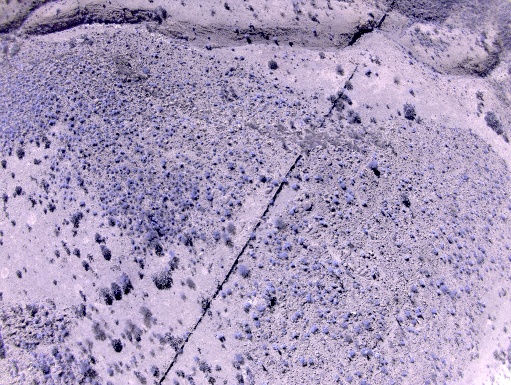agave: (283, 241, 297, 254), (258, 171, 268, 188), (304, 292, 315, 304), (225, 161, 237, 172), (204, 191, 215, 203), (241, 266, 251, 278), (218, 214, 228, 225), (287, 207, 299, 216), (270, 179, 282, 188), (280, 251, 290, 261), (291, 225, 300, 235), (248, 232, 257, 242), (338, 182, 349, 190), (133, 147, 144, 155), (291, 183, 303, 190), (315, 176, 324, 185), (161, 194, 169, 204), (111, 110, 120, 118), (333, 198, 341, 206), (142, 67, 150, 75), (121, 202, 129, 210), (346, 197, 355, 204), (411, 286, 418, 295), (235, 199, 242, 206), (162, 161, 169, 168), (211, 147, 218, 153), (157, 106, 163, 113), (192, 194, 198, 201), (137, 176, 144, 182), (338, 161, 344, 168), (150, 82, 156, 89), (125, 168, 132, 174), (164, 171, 170, 178), (228, 148, 233, 156), (80, 118, 86, 124), (237, 182, 242, 189), (168, 130, 173, 137), (329, 173, 334, 180), (115, 158, 120, 165), (206, 172, 210, 180), (184, 80, 190, 85), (69, 123, 75, 128), (257, 143, 261, 150), (174, 155, 181, 159), (188, 137, 195, 141), (329, 161, 333, 168), (250, 152, 255, 157), (206, 82, 211, 87), (362, 187, 367, 192), (56, 109, 61, 114), (70, 116, 75, 121), (259, 262, 263, 268), (264, 240, 268, 244)
